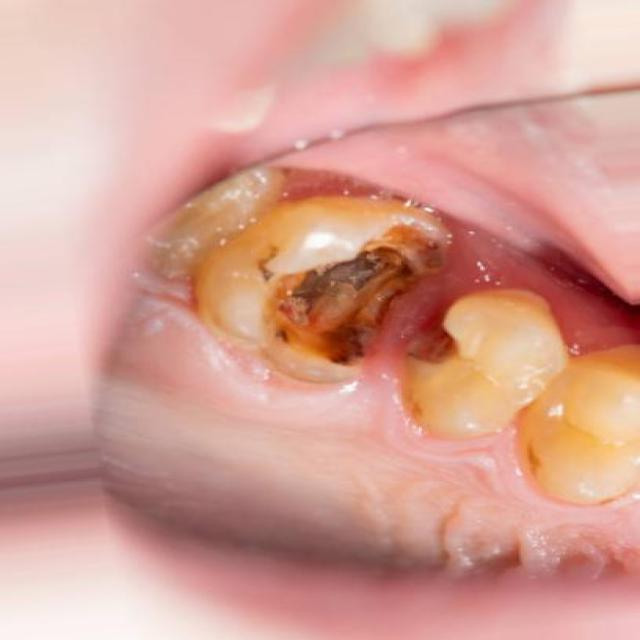caries: (240, 221, 520, 395)
